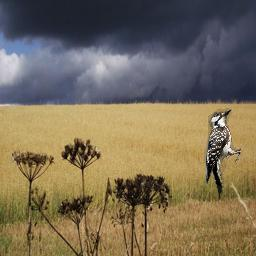Woodpecker: (203, 107, 241, 202)
